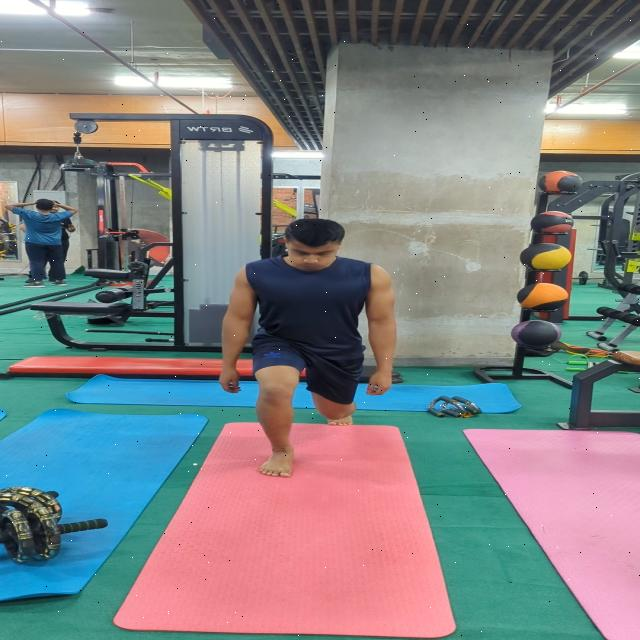Normal_Lunges: (214, 210, 406, 482)
